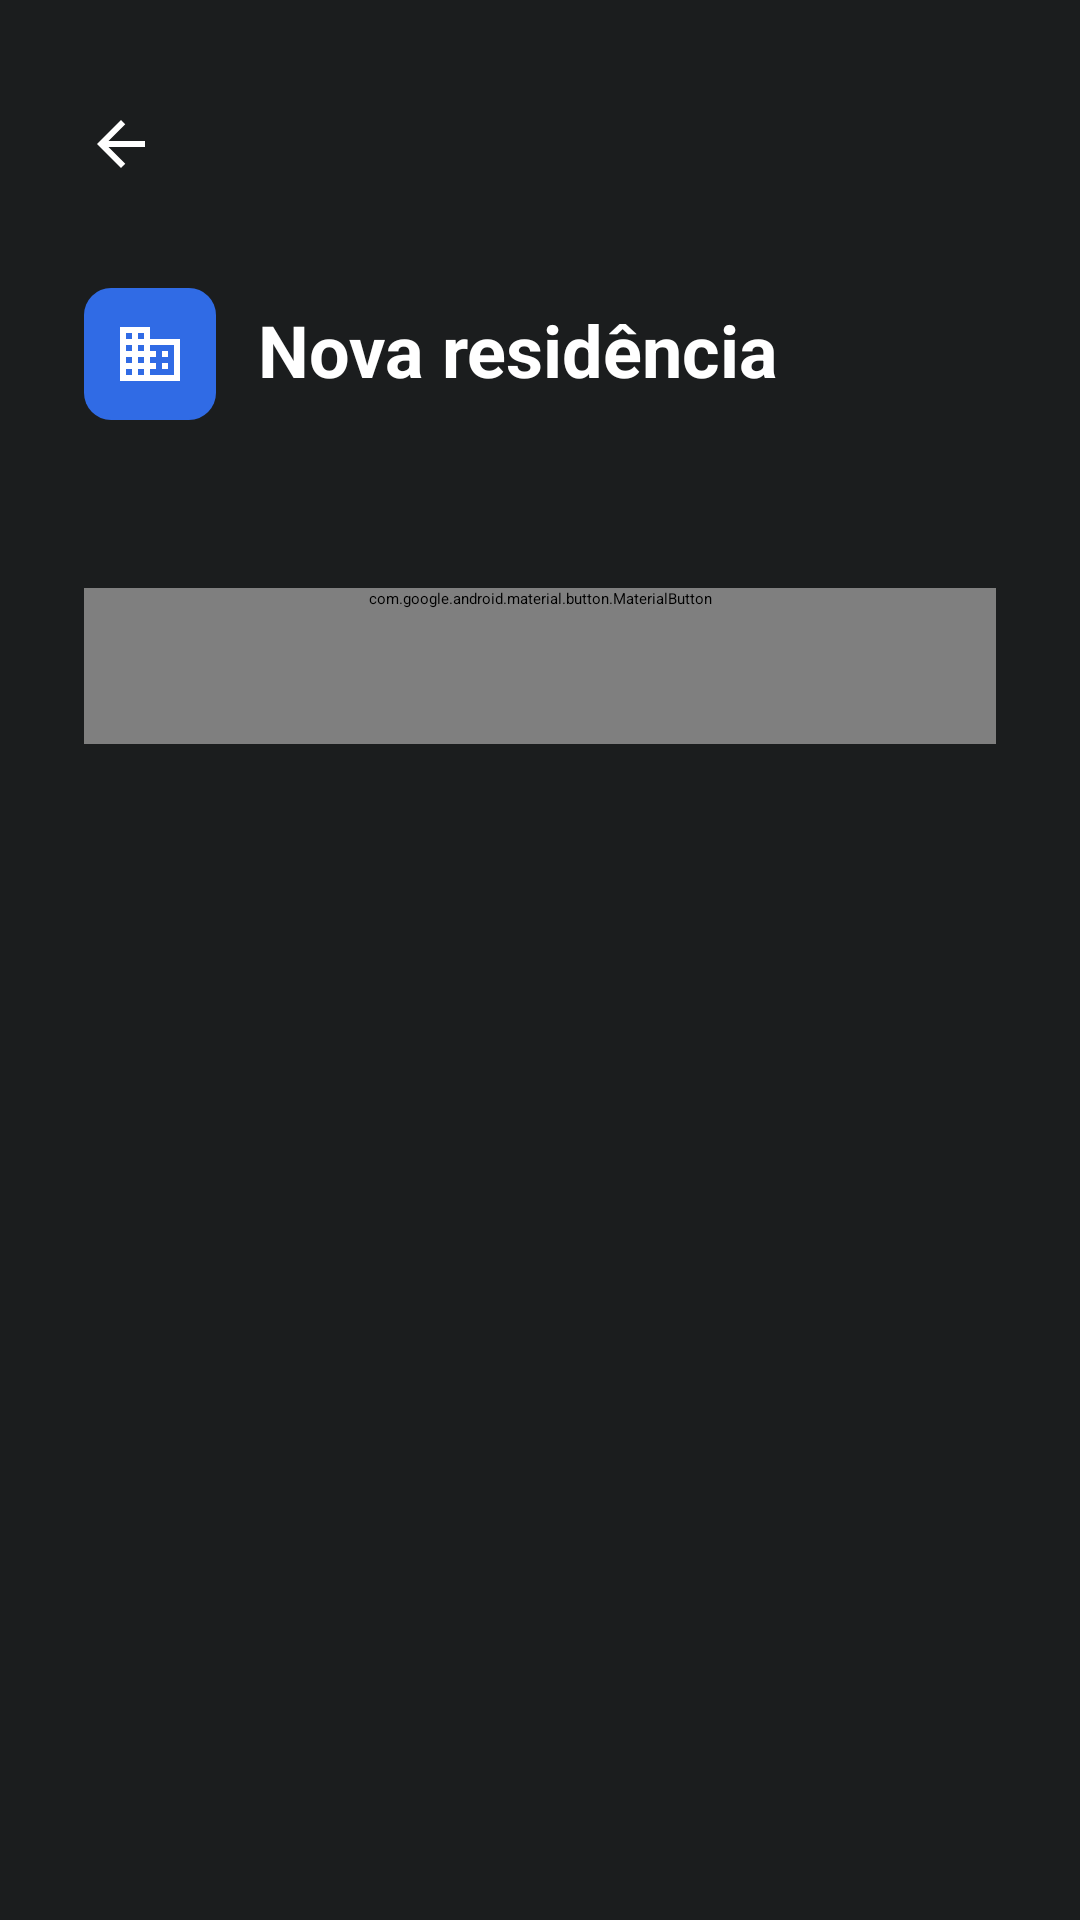

Icon bounding boxes for this 1080*1920 phone screenshot, format (x1=x1, y1=y1, x2=x2, y2=y2):
profile units: (x1=84, y1=288, x2=216, y2=420)
Voltar: (x1=97, y1=120, x2=145, y2=168)
